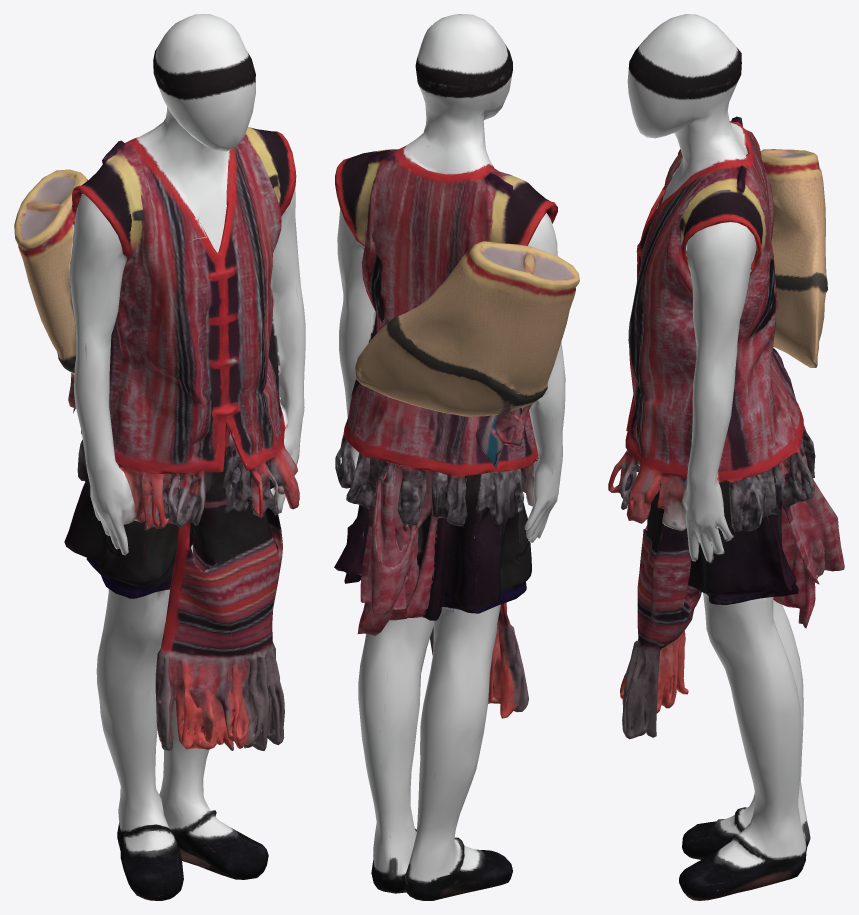
The model's file is Ba_na_nam_00001.glb.
3 views of the same model, side by side, from view 1: azimuth 30°, elevation 25°; view 2: azimuth 150°, elevation 25°; view 3: azimuth 270°, elevation 25° (orthographic). The views are drawn at different scales.
Size of the model in its own units: 0.2781 by 0.8797 by 0.2211.
1 material, 1 textured.
